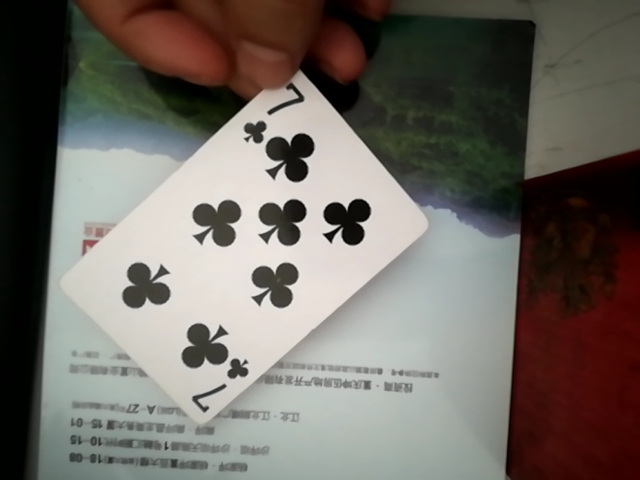mh 7: (54, 78, 430, 413)
